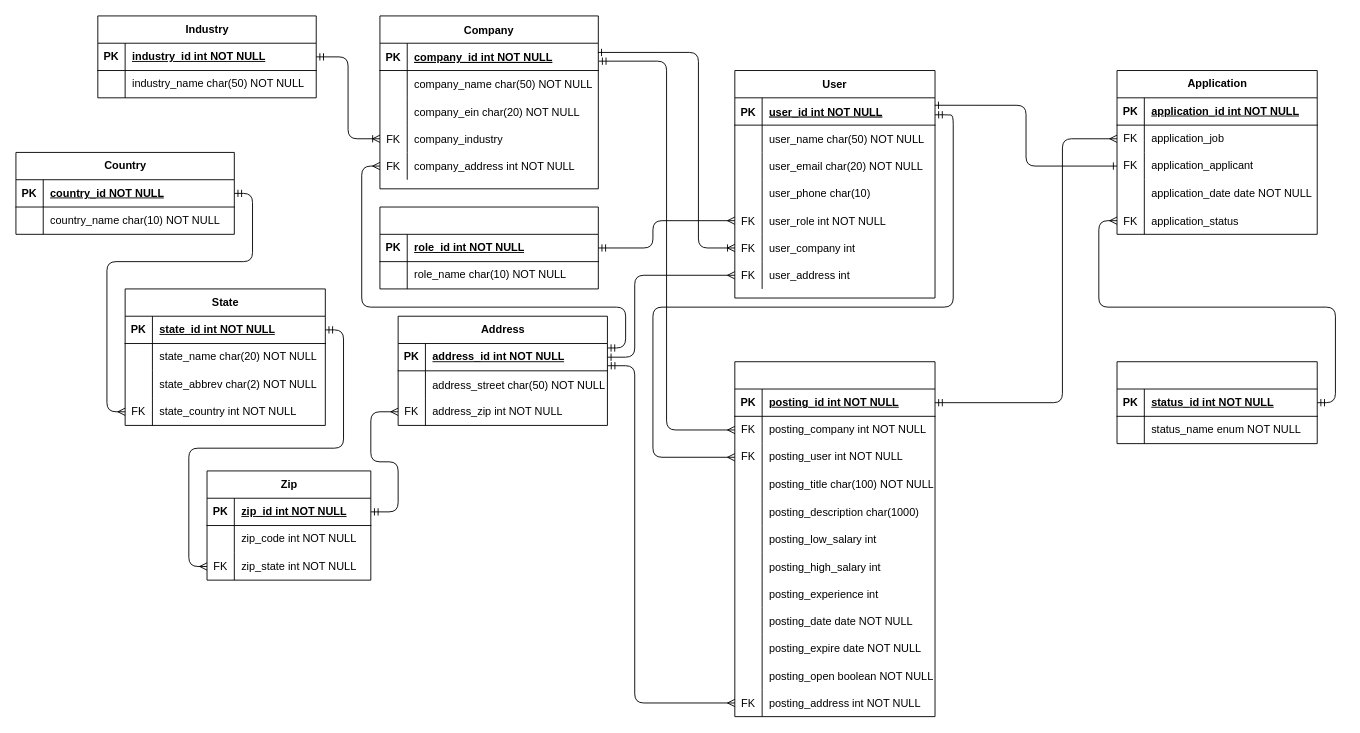
Some shapes in this 1360 by 733 pixel diagram are drawn without their labels. Here are the shapes that lost their labels. From the top down, the box of each, then its label:
(379, 206, 598, 289): User Role
(1116, 361, 1317, 444): Application Status
(734, 361, 935, 717): Job Posting
